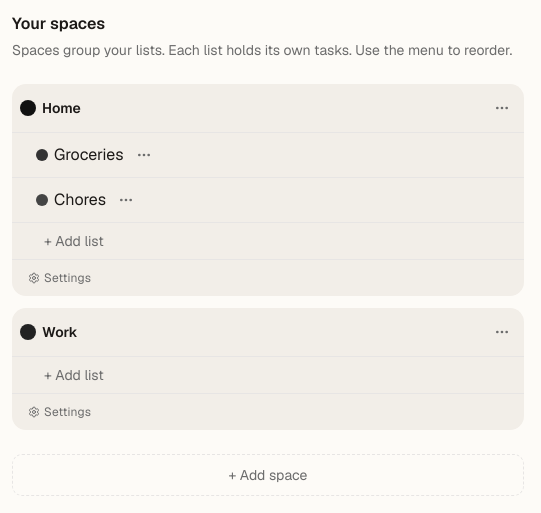
it: SpaceListManager row menus › puts Edit, Move up, Move down and Delete in a space menu
This screenshot has width=541, height=513.
Press the mouse on the button named "More actions for Home" at (502, 108), box x1=488 y1=94 x2=516 y2=122
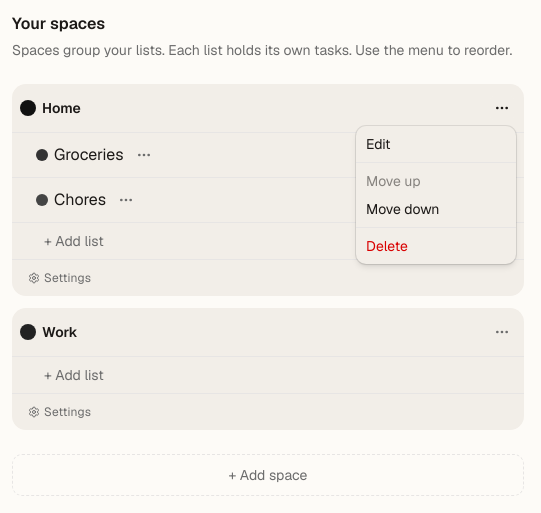
Expected: the menu item "Edit" is shown, x1=366 y1=135 x2=391 y2=153
Expected: the menu item "Move up" is shown, x1=366 y1=172 x2=421 y2=190
Expected: the menu item "Move down" is shown, x1=366 y1=200 x2=439 y2=218
